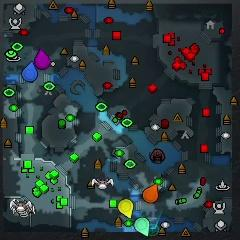p1: (20, 61, 39, 82)
p2: (135, 217, 150, 237)
p3: (34, 48, 50, 70)
p4: (118, 199, 134, 219)
p5: (142, 183, 159, 203)
